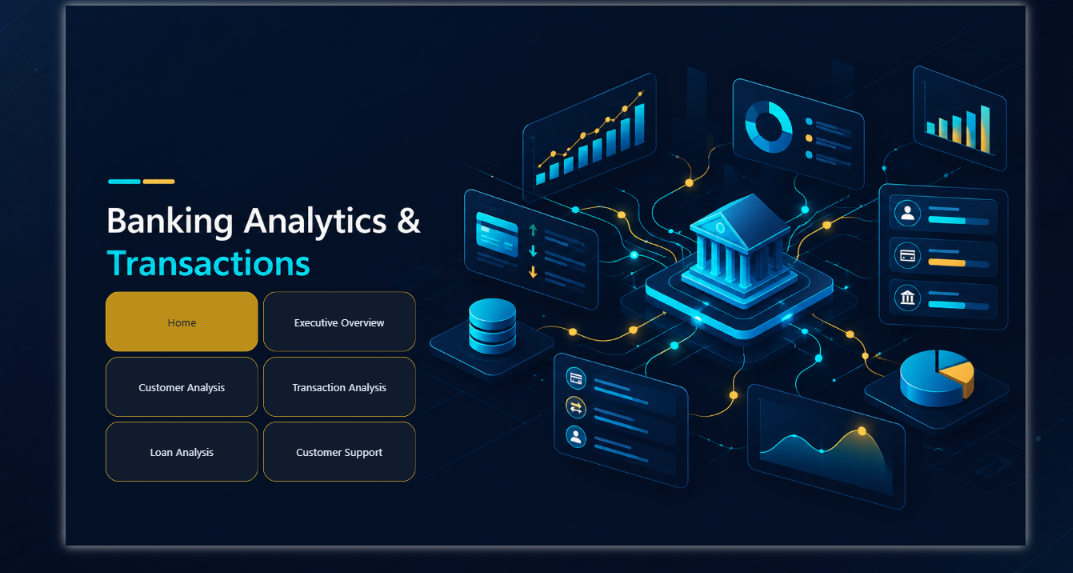

What the dashboard file says about the page in this screenshot:
{"tool":"powerbi","page":{"name":"Home","canvas":[1920,1080],"ordinal":0},"visuals":[{"type":"pageNavigator","box":[79.1,572.4,620.2,382.8],"z":0}]}

Visuals, with their boxes on the page's 1920x1080 design canvas (x1, y1, x2, y2). These are canvas units, not pixel positions in the 1073x573 screenshot, which may show the page scaled, cropped or inside an application window:
pageNavigator: BBox(79, 572, 699, 955)
